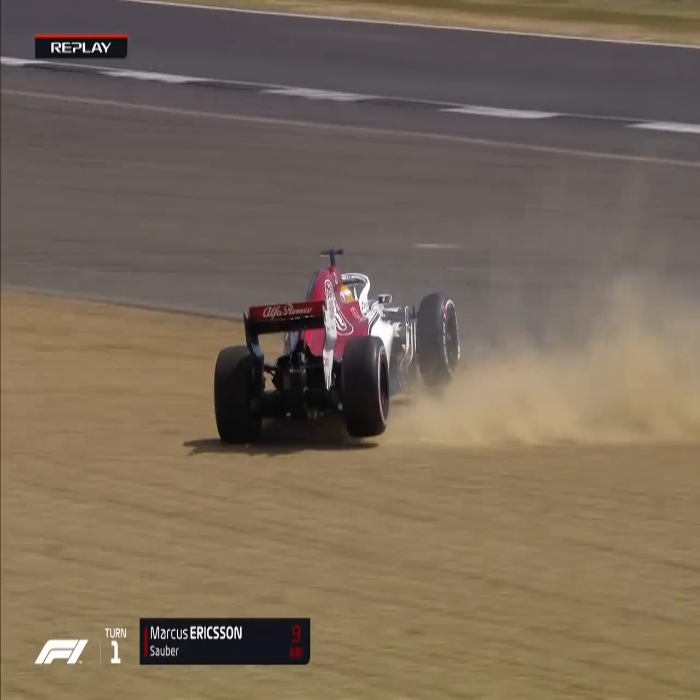f1_car: (203, 242, 468, 449)
